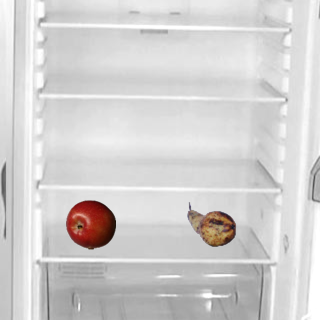Apple Braeburn: (65, 199, 115, 249)
Pear Abate: (186, 199, 236, 249)
